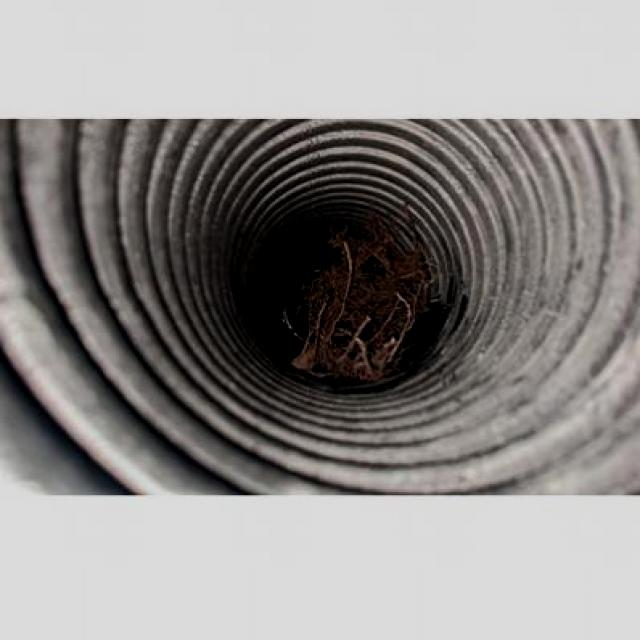root: (288, 232, 437, 378)
